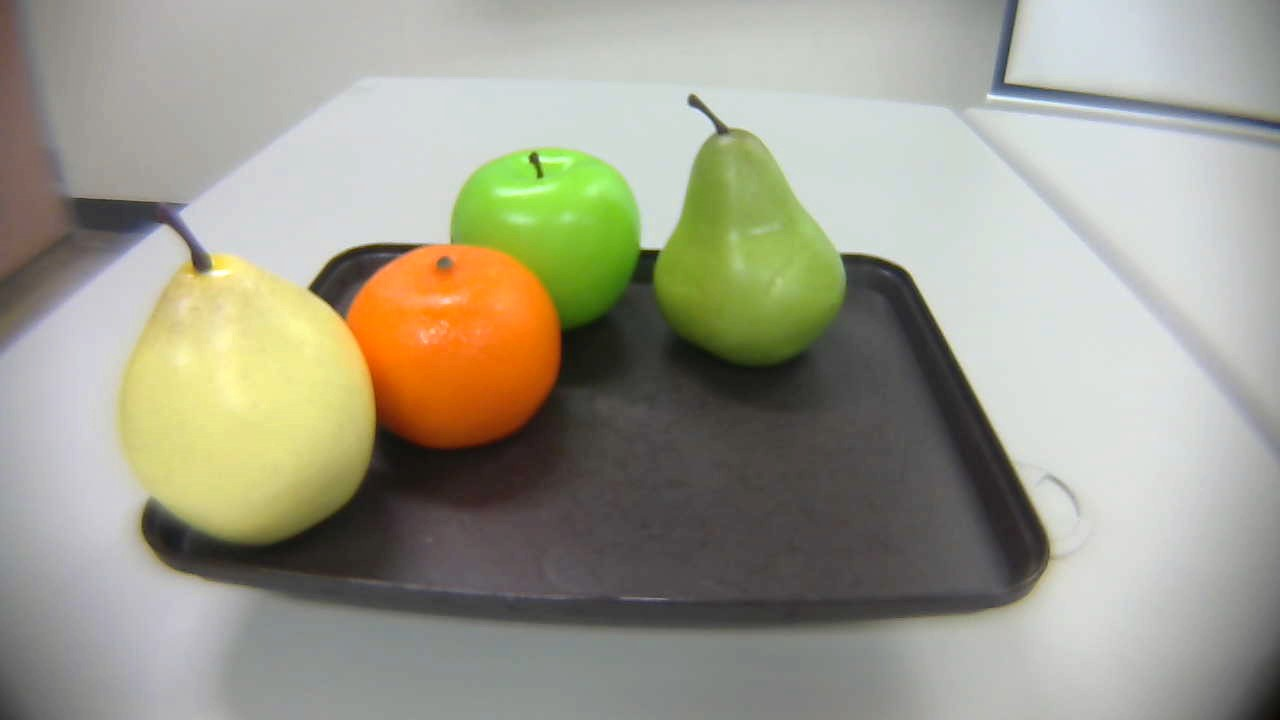green apple: (447, 138, 645, 329)
green pear: (642, 89, 857, 364)
orange: (342, 243, 570, 451)
western pear: (80, 196, 395, 556)
